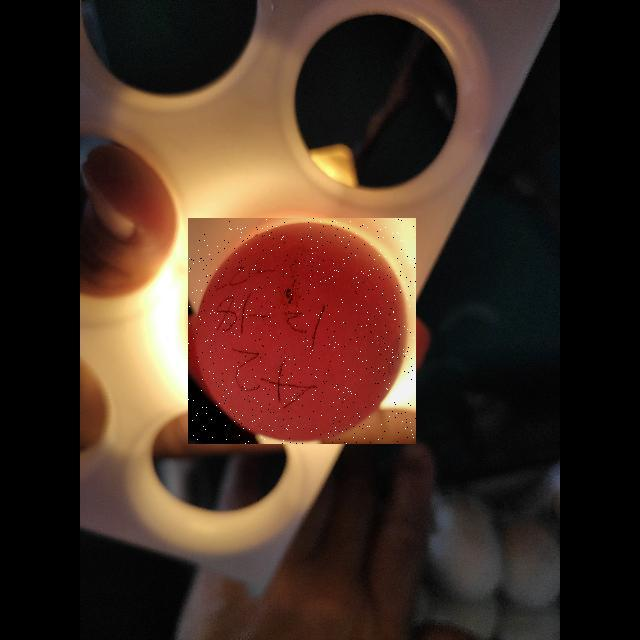A - Good: (188, 218, 416, 444)
